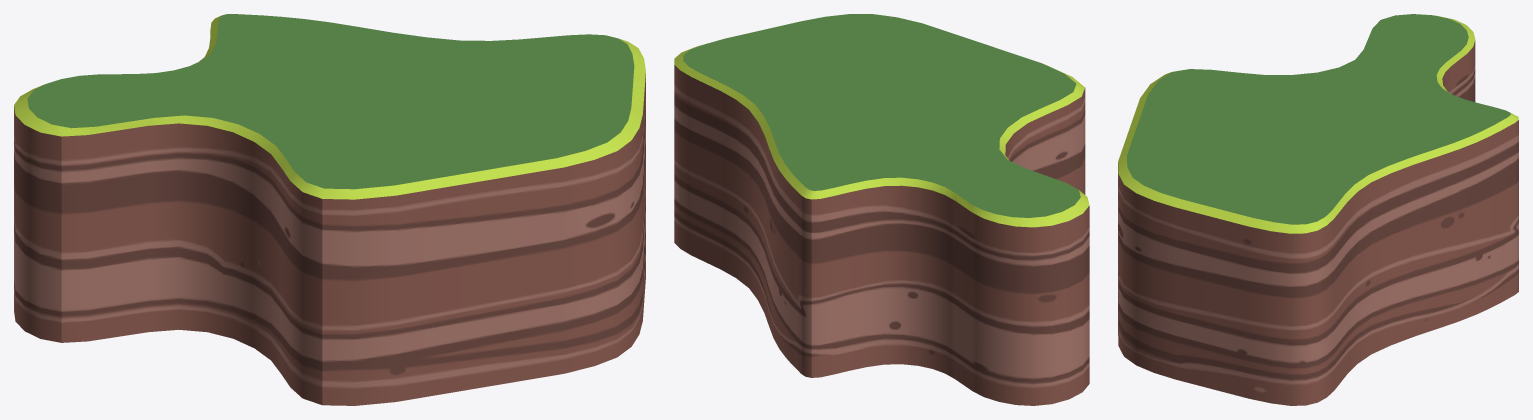
File: grasschunk4.glb
The picture shows the model from 3 angles, left to right: view 1: azimuth 30°, elevation 25°; view 2: azimuth 150°, elevation 25°; view 3: azimuth 270°, elevation 25°; orthographic projection. The views are drawn at different scales.
Parts seen in each view (by area): view 1: Plate_Curved_Var16_12_Forest_mat_01_0; view 2: Plate_Curved_Var16_12_Forest_mat_01_0; view 3: Plate_Curved_Var16_12_Forest_mat_01_0.
Part boxes in pixels (x1,y1,x2,y2): Plate_Curved_Var16_12_Forest_mat_01_0: [14, 14, 645, 405]; Plate_Curved_Var16_12_Forest_mat_01_0: [674, 14, 1089, 405]; Plate_Curved_Var16_12_Forest_mat_01_0: [1118, 14, 1518, 405].
Bounding box in the file's own units: 0.1005 × 0.0378 × 0.0775.
1 material, 1 textured.
